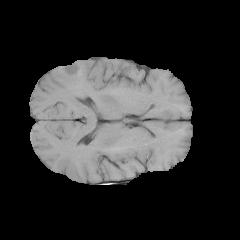glioma: (52, 61, 83, 82)
